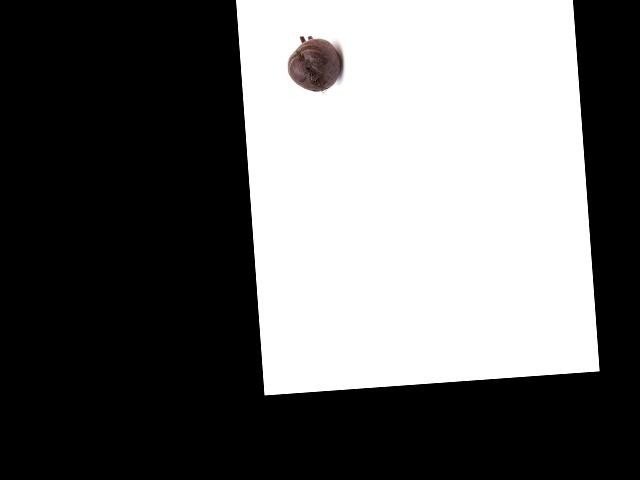beet: (285, 34, 343, 94)
